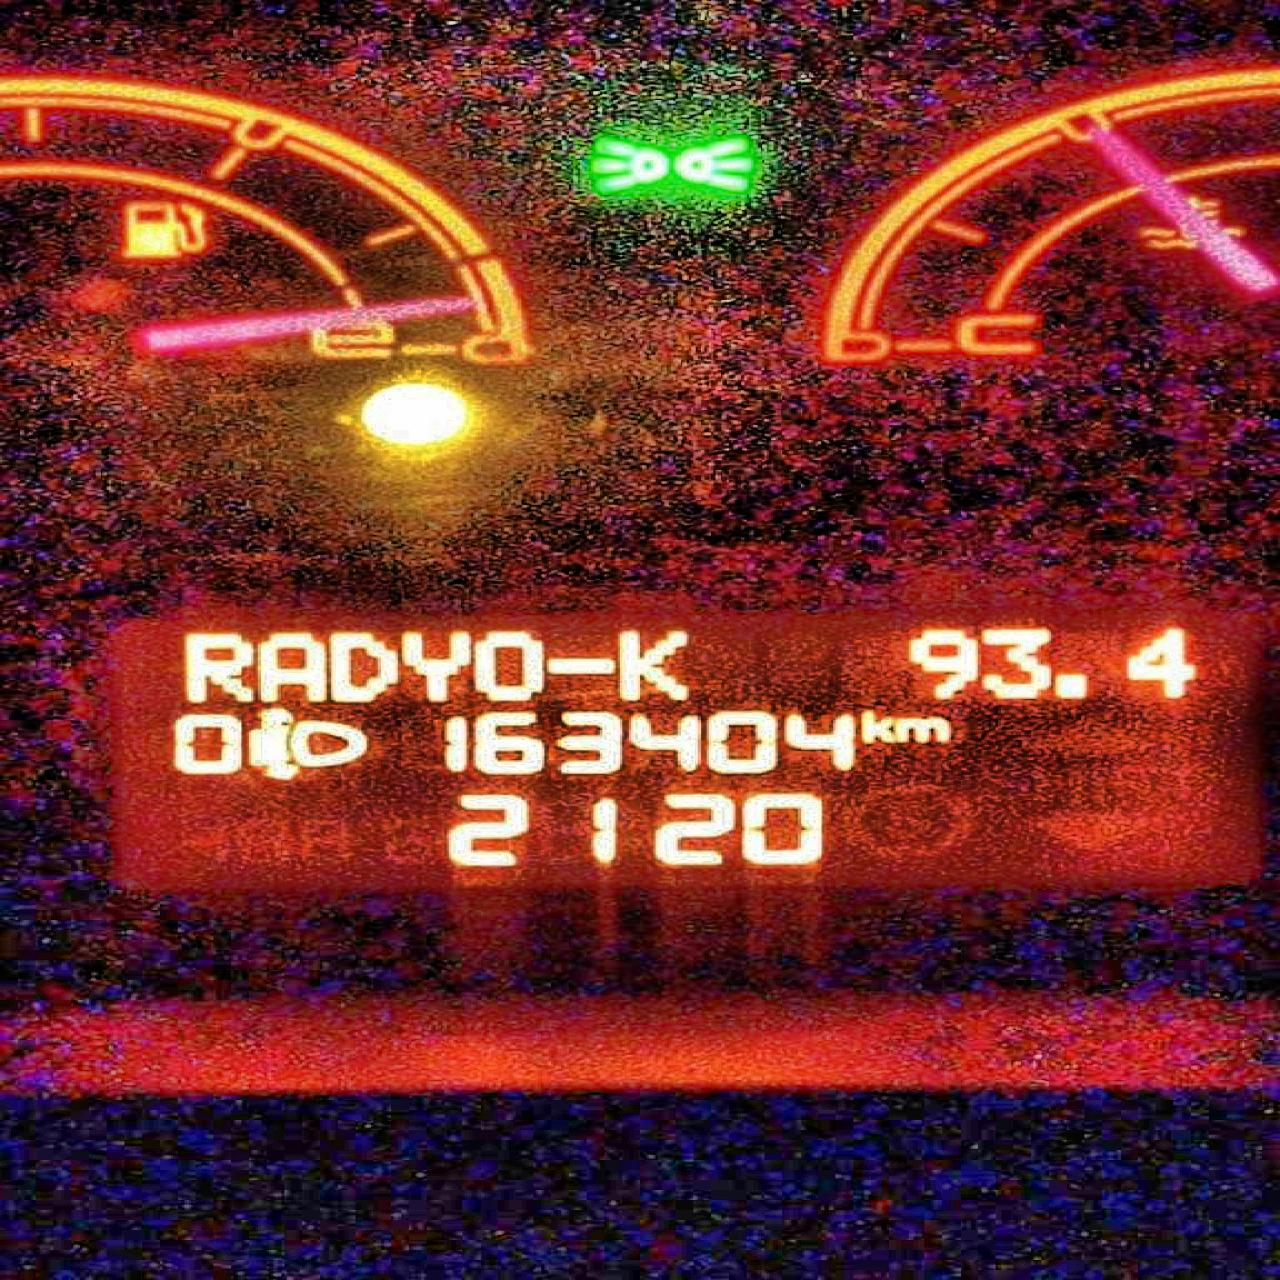-: (1055, 669, 1089, 701)
0: (737, 789, 824, 869), (161, 708, 247, 777), (704, 706, 779, 775)
1: (571, 789, 629, 867), (427, 708, 471, 774)
2: (436, 788, 538, 870), (642, 788, 731, 869)
3: (980, 624, 1054, 702), (549, 704, 622, 777)
4: (1116, 624, 1205, 701), (777, 707, 856, 774), (627, 708, 702, 774)
6: (469, 708, 547, 777)
9: (893, 624, 980, 701)
X: (611, 625, 697, 701), (171, 626, 251, 706), (253, 628, 328, 707), (325, 626, 400, 703), (397, 627, 471, 703), (477, 626, 546, 703), (543, 654, 613, 681), (896, 714, 952, 744), (860, 706, 896, 745)
odometer: (84, 602, 1278, 903)
